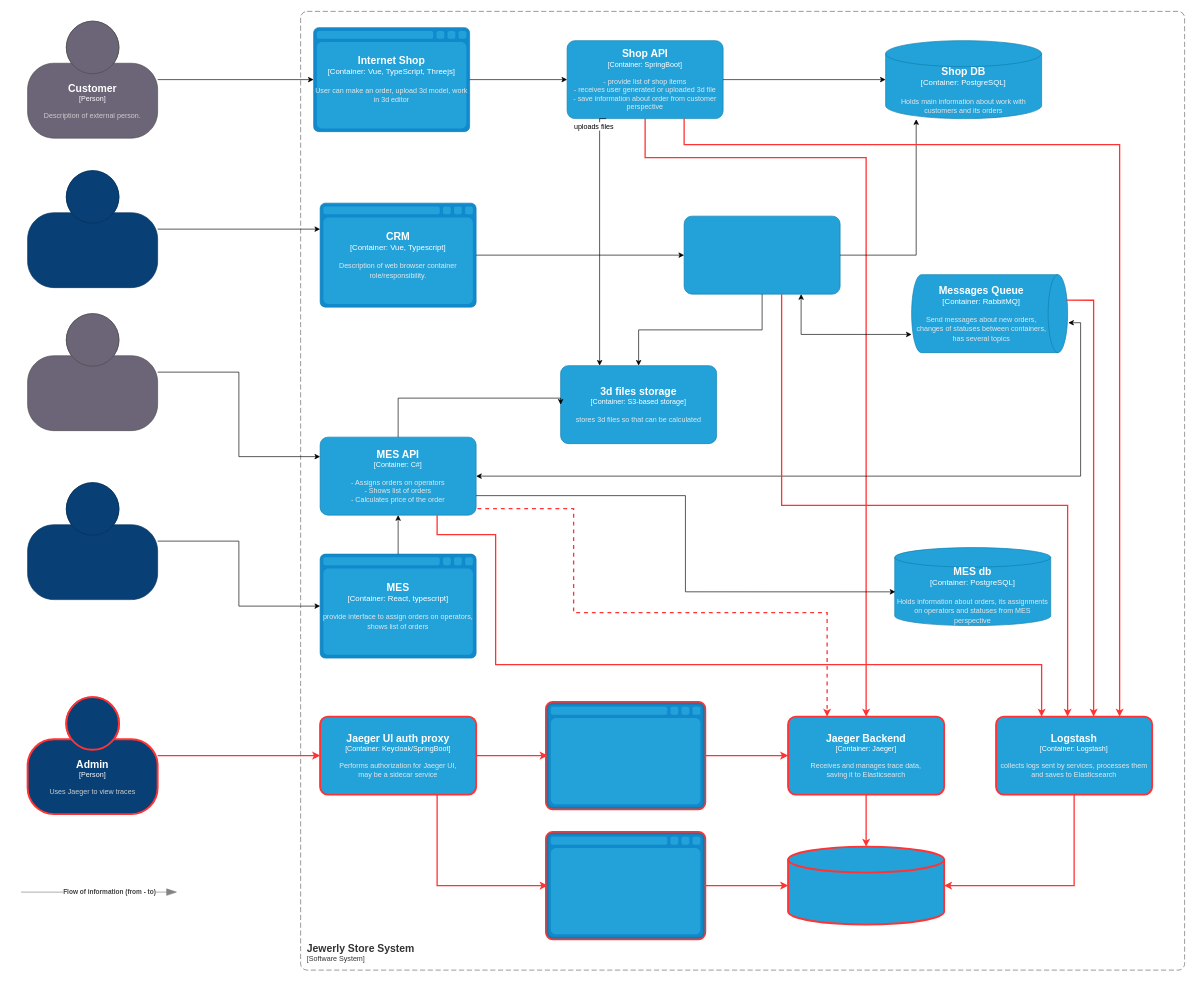
This 1196x981 diagram has some shape labels left out. The shapes that lost their labels are listed below. From the top down, each one's centre as x and y in pixels, then its label:
At pixel 92 229: "Seller [Person] Operates with order, confirms manufacturing for the user".
At pixel 761 254: "CRM API [Container: SpringBoot] Description of container role/responsibility.".
At pixel 92 372: "API user [Person] Description of external person.".
At pixel 92 541: "Operator [Person] Takes order in work, manufactures jewerly".
At pixel 625 755: "Jaeger UI [Container: Jaeger] provides interface to view tracing data".
At pixel 625 885: "Kibana UI [Container: Kibana] provides interface to view logs".
At pixel 866 885: "Elastic [Container: Elasticsearch] DB for storing traces and logs".
